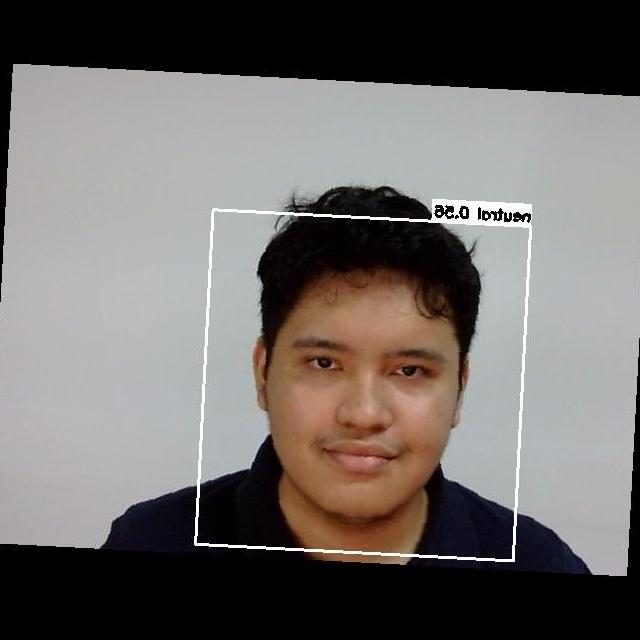Happy: (281, 311, 459, 504)
